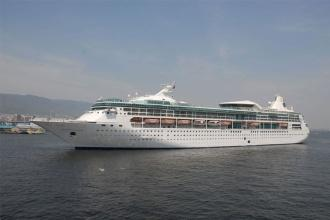youlun: (21, 81, 311, 150)
